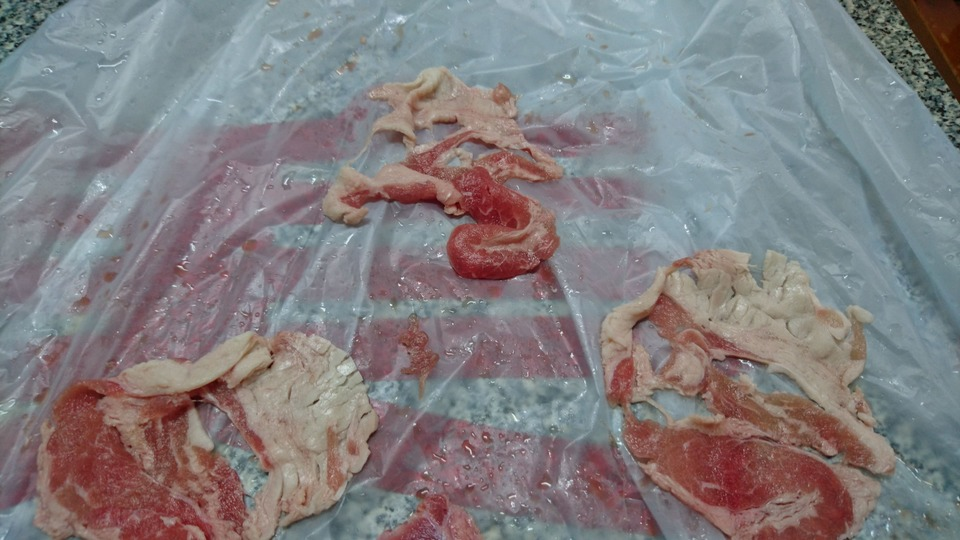restructured meat: (596, 248, 898, 540), (32, 324, 377, 540), (316, 70, 556, 276)
